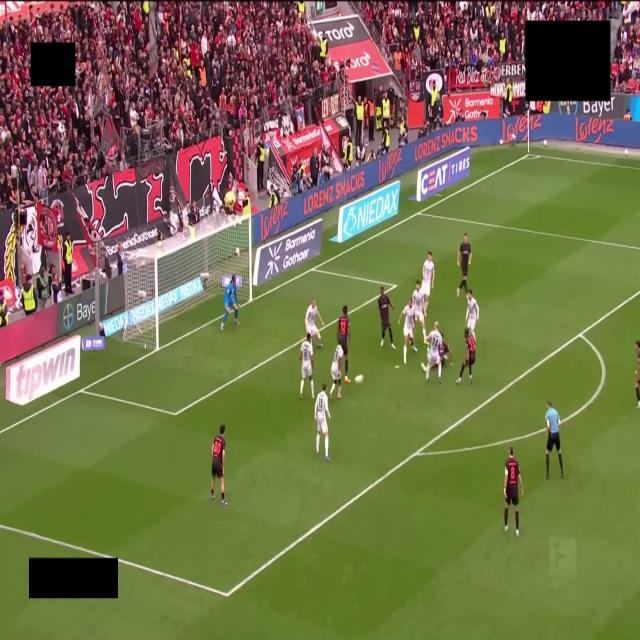ball: (354, 375, 363, 383)
player: (504, 447, 523, 536), (211, 424, 227, 507), (314, 384, 330, 461), (399, 298, 417, 364), (423, 322, 442, 383), (378, 287, 395, 349), (337, 305, 350, 383), (457, 328, 475, 383), (221, 276, 239, 330), (300, 333, 314, 399), (305, 300, 324, 348), (457, 233, 471, 296), (412, 280, 426, 343), (421, 252, 434, 314), (330, 344, 343, 399), (466, 290, 479, 338), (440, 332, 452, 367), (440, 333, 452, 365), (636, 341, 639, 409)
referee: (546, 401, 563, 479)
